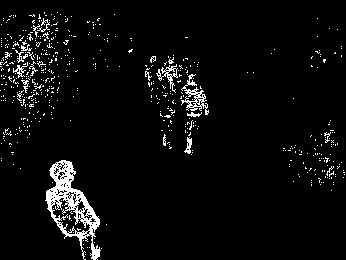person: (43, 159, 102, 260), (182, 74, 208, 155)
